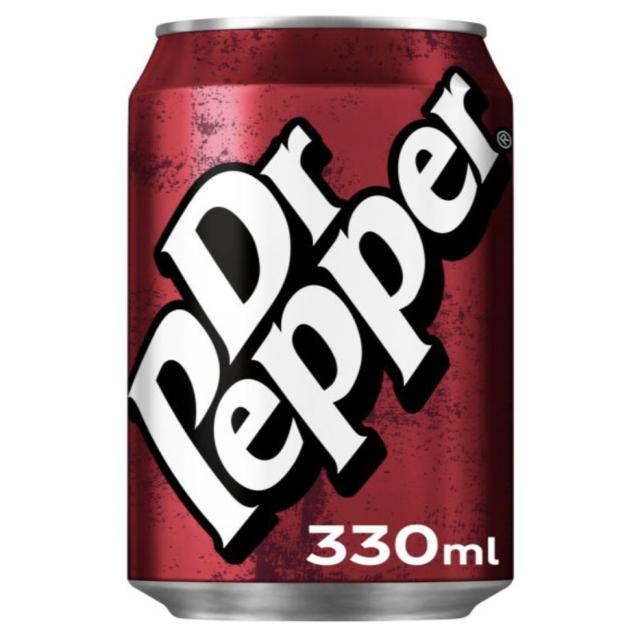recyclable: (80, 6, 554, 633)
